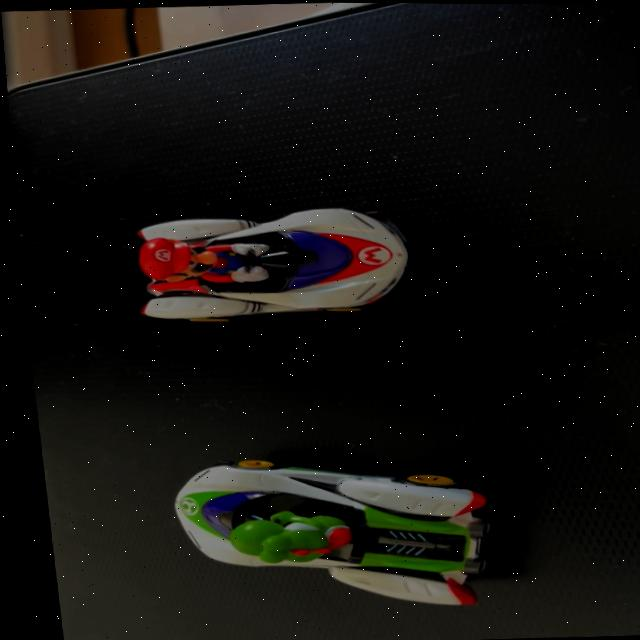mario: (95, 185, 448, 338)
yoshi: (122, 432, 523, 625)
